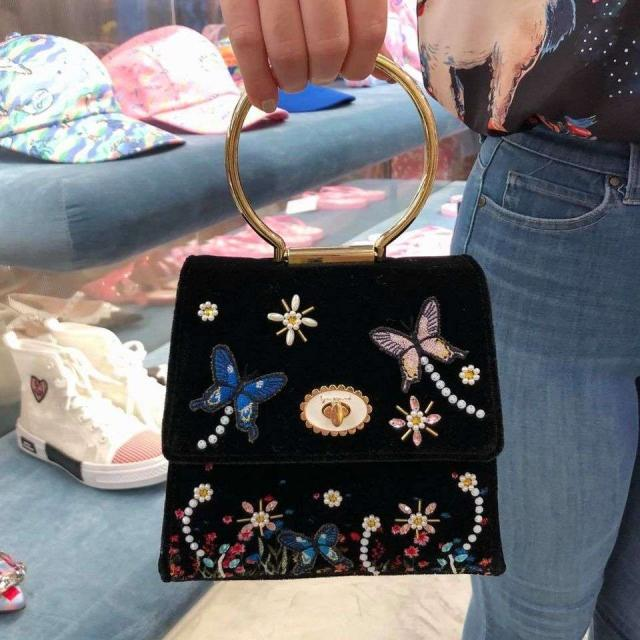Handbag: (158, 228, 504, 584)
